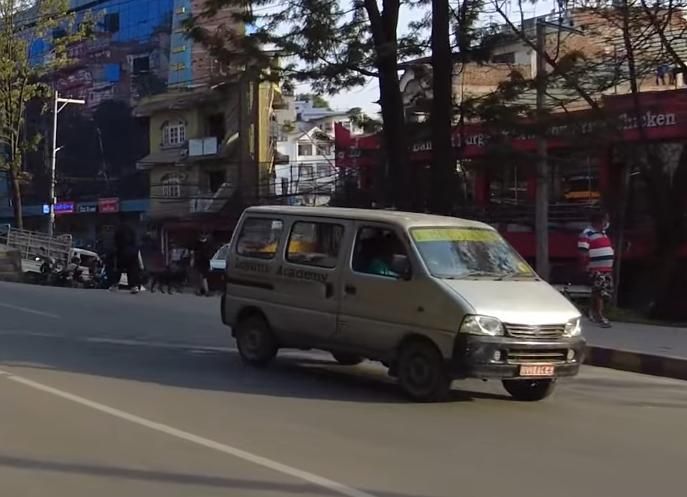transport_vehicle: (0, 213, 112, 293)
van: (214, 199, 592, 422)
